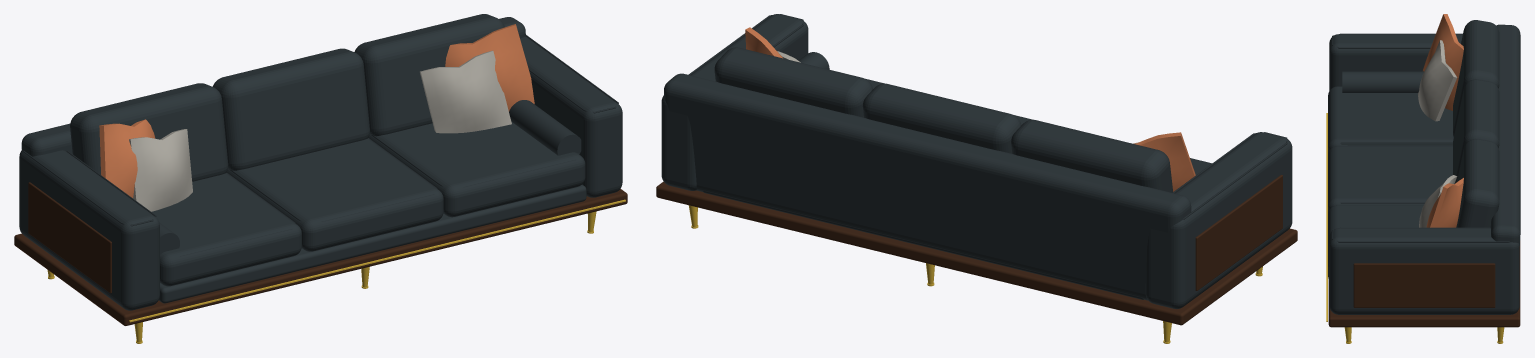
The model's file is milano-original-3.glb.
3 renders of one model, left to right at view 1: azimuth 30°, elevation 25°; view 2: azimuth 150°, elevation 25°; view 3: azimuth 270°, elevation 25°, orthographic. The views are drawn at different scales.
Size of the model in its own units: 2.56 by 0.8344 by 0.9933.
